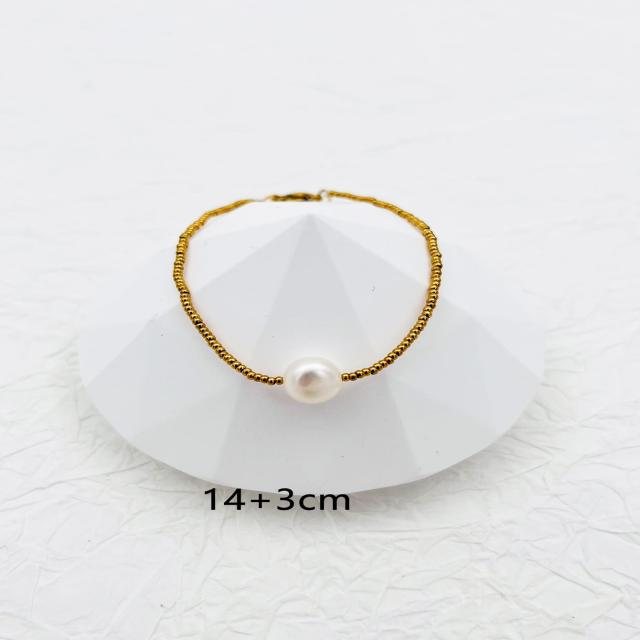bracelet: (118, 130, 488, 488)
